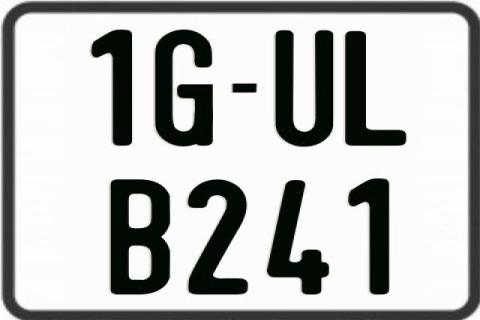0: (266, 178, 334, 294), (185, 179, 245, 297), (91, 29, 138, 147), (345, 179, 387, 295)
B: (110, 177, 174, 293)
G: (156, 29, 218, 150)
L: (342, 32, 407, 146)
U: (273, 31, 333, 150)
